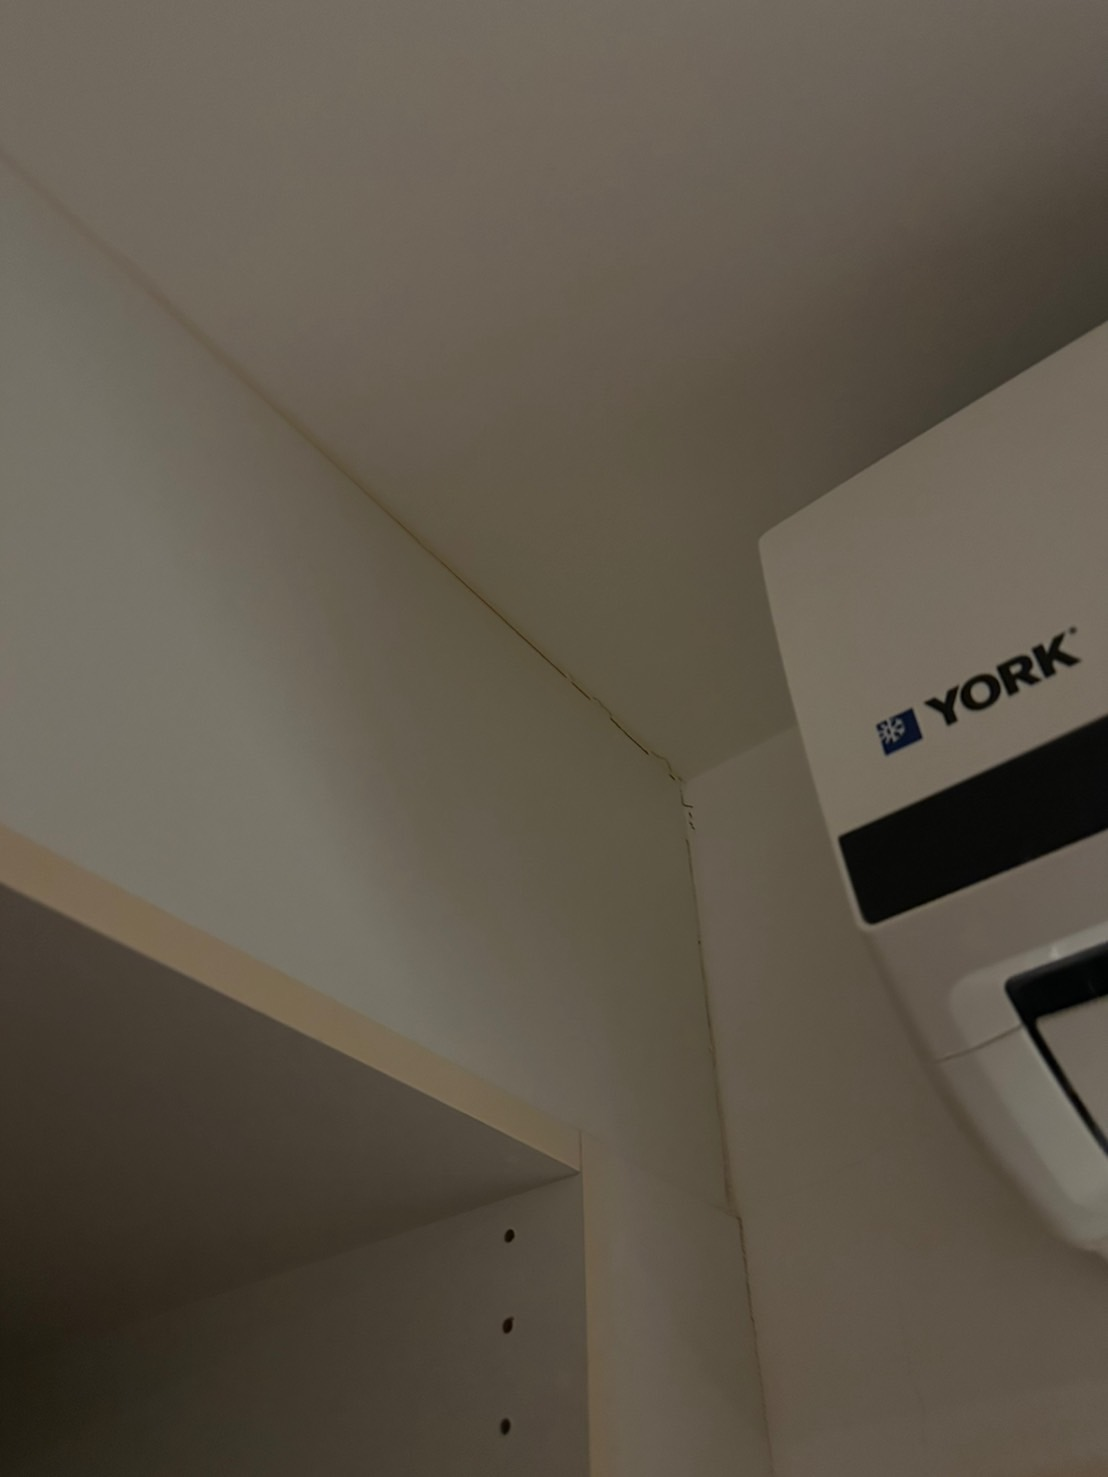Low: (29, 182, 787, 994)
